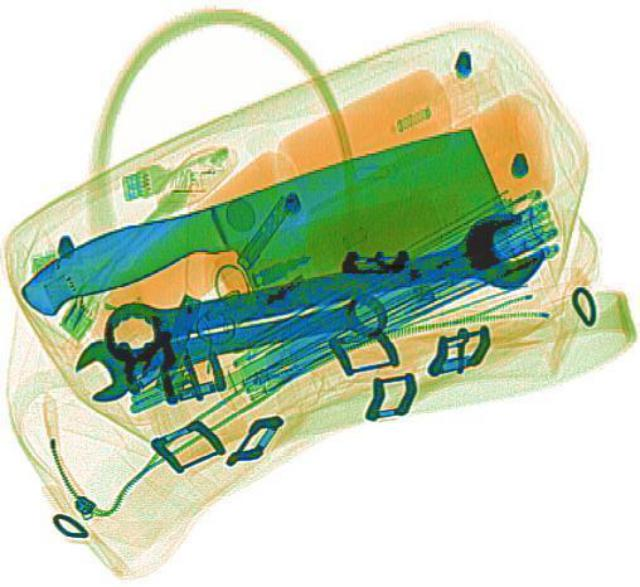Knife: (6, 121, 514, 364)
Wrench: (90, 203, 558, 372), (64, 278, 392, 403)
